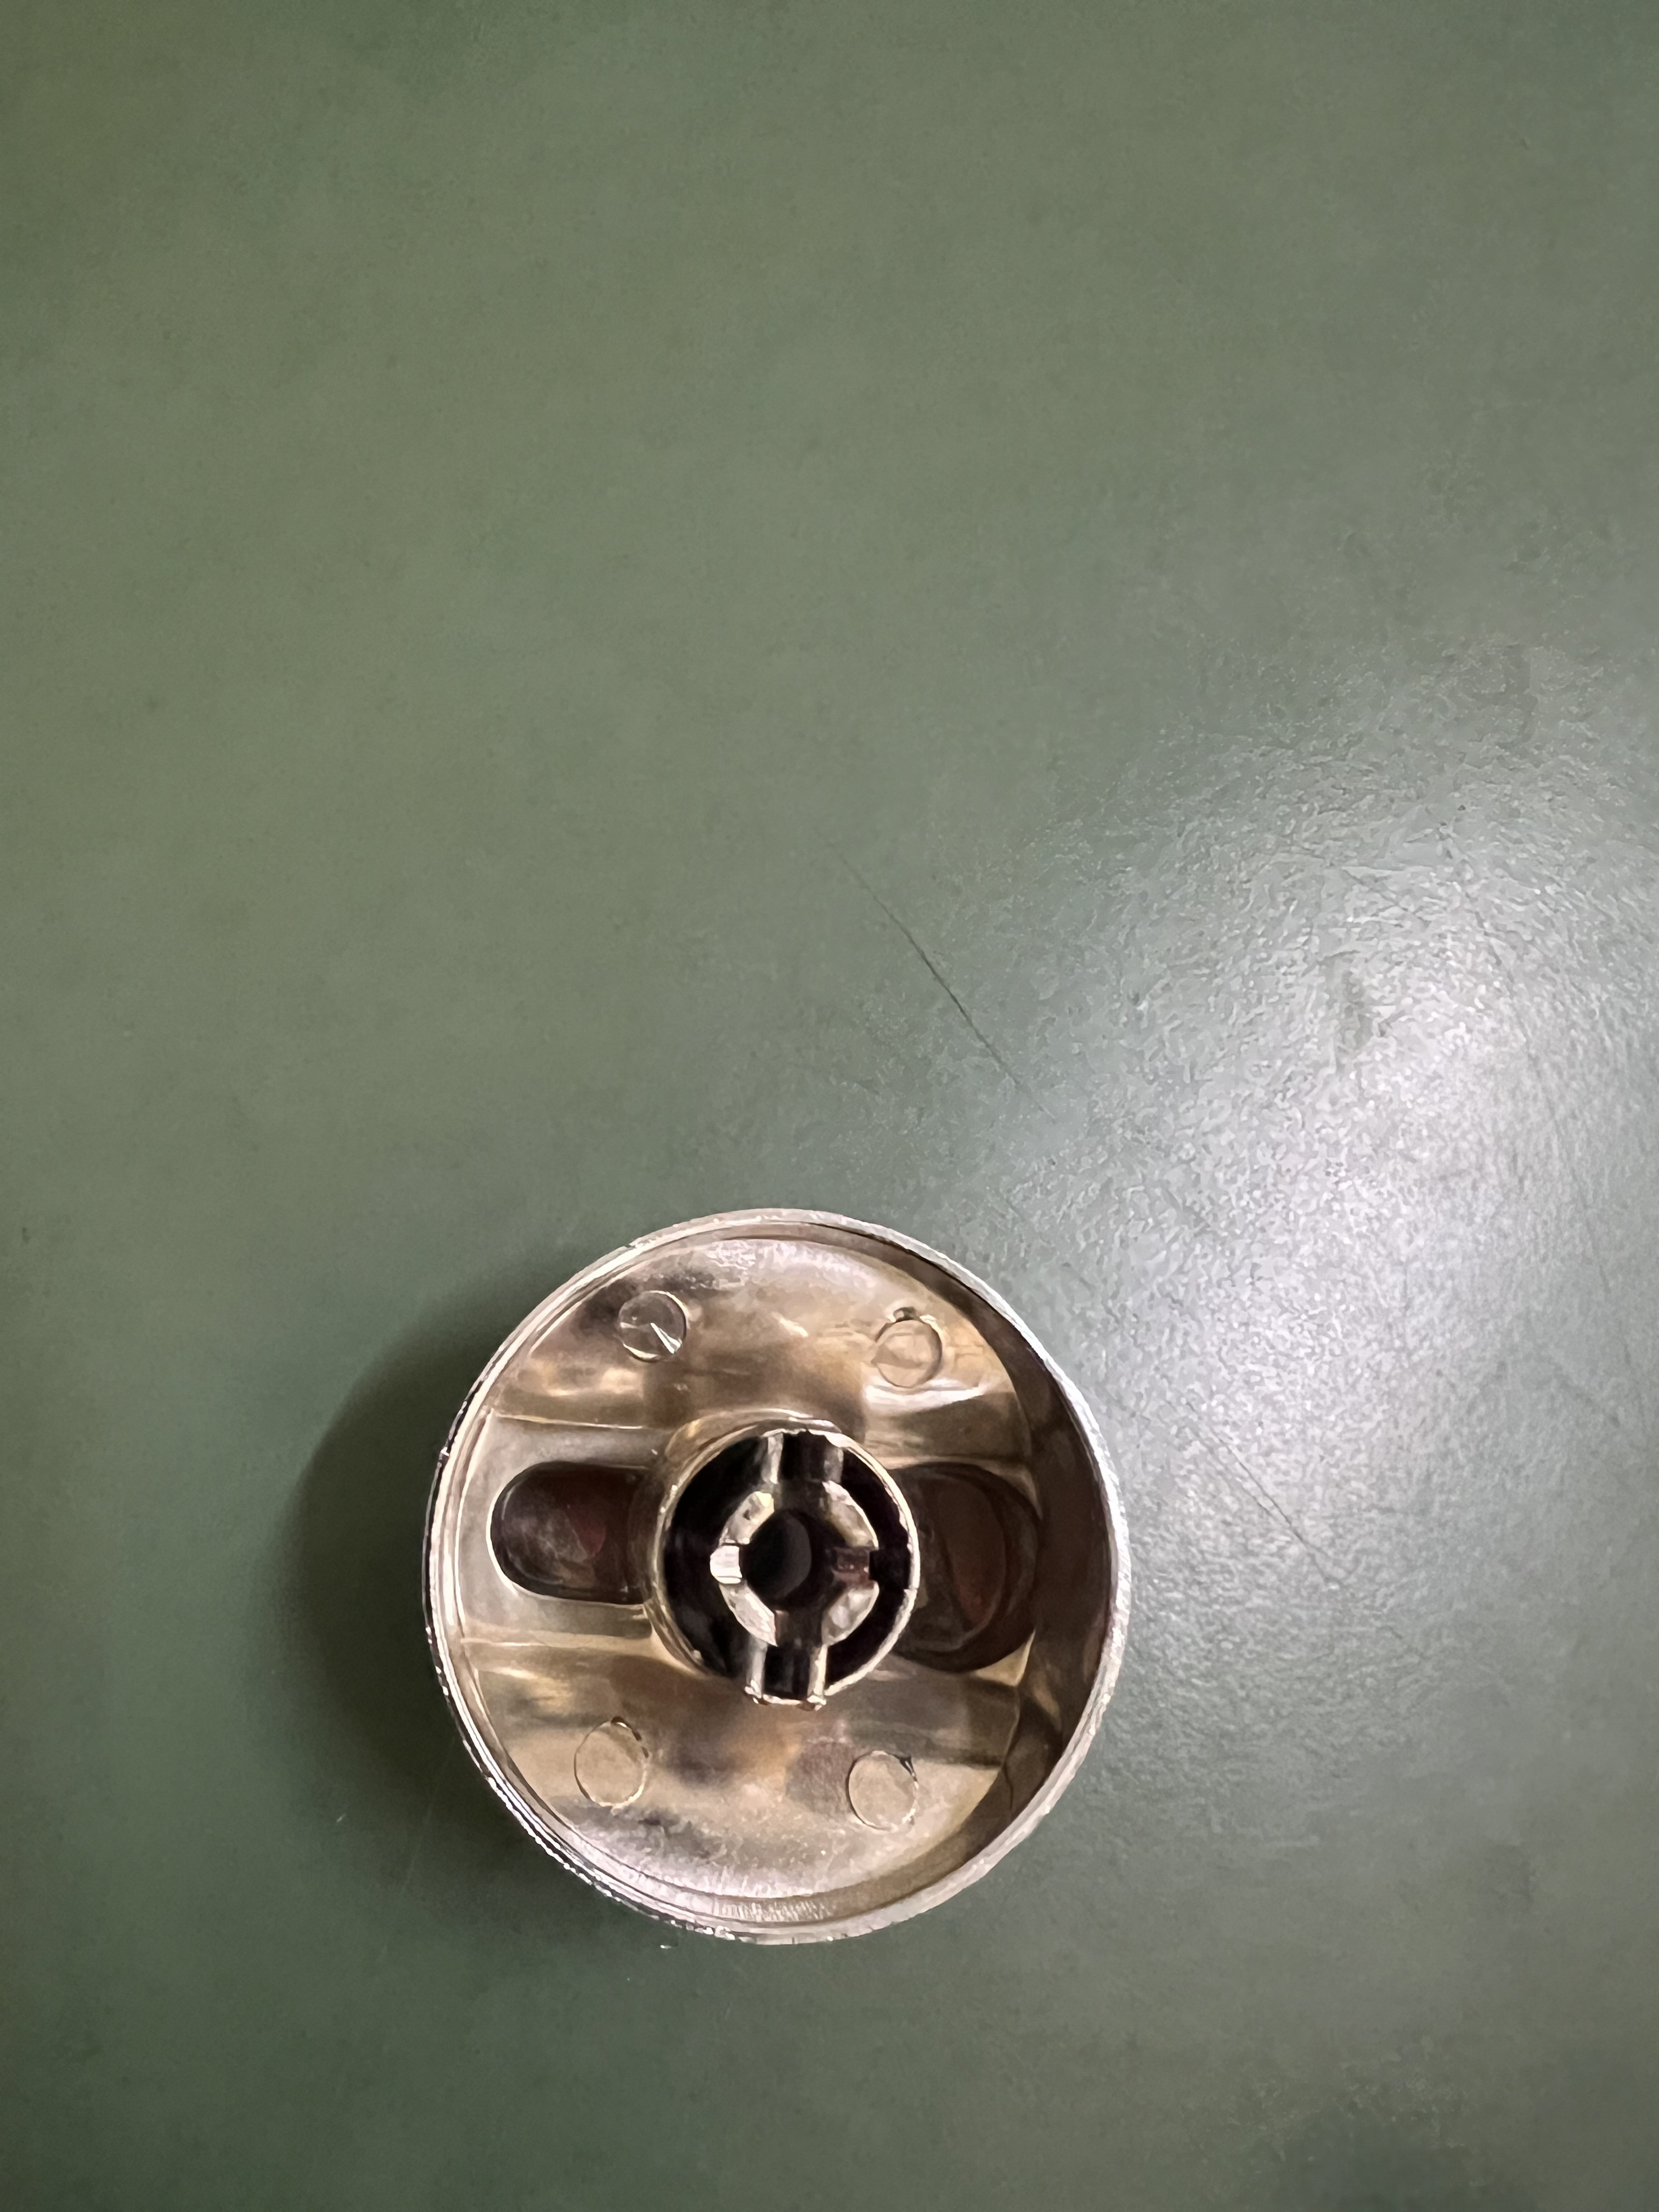regulator: (373, 1197, 1204, 1970)
